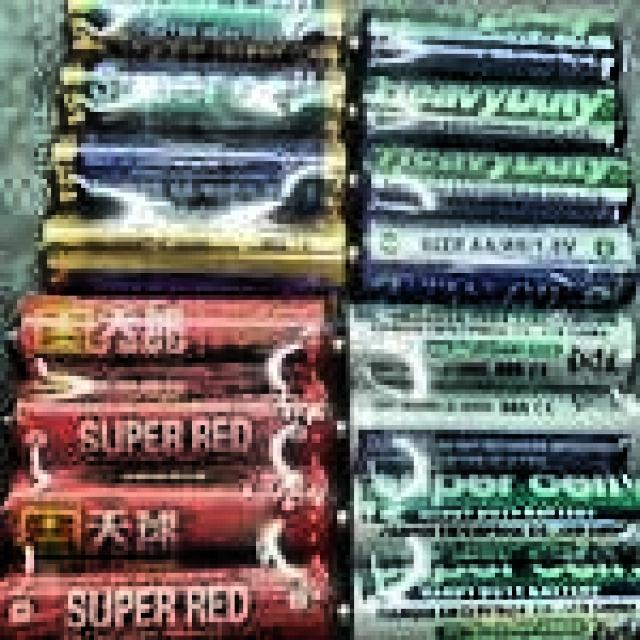Non-Valuable Waste - Batteries: (0, 3, 345, 638), (351, 13, 640, 638)
